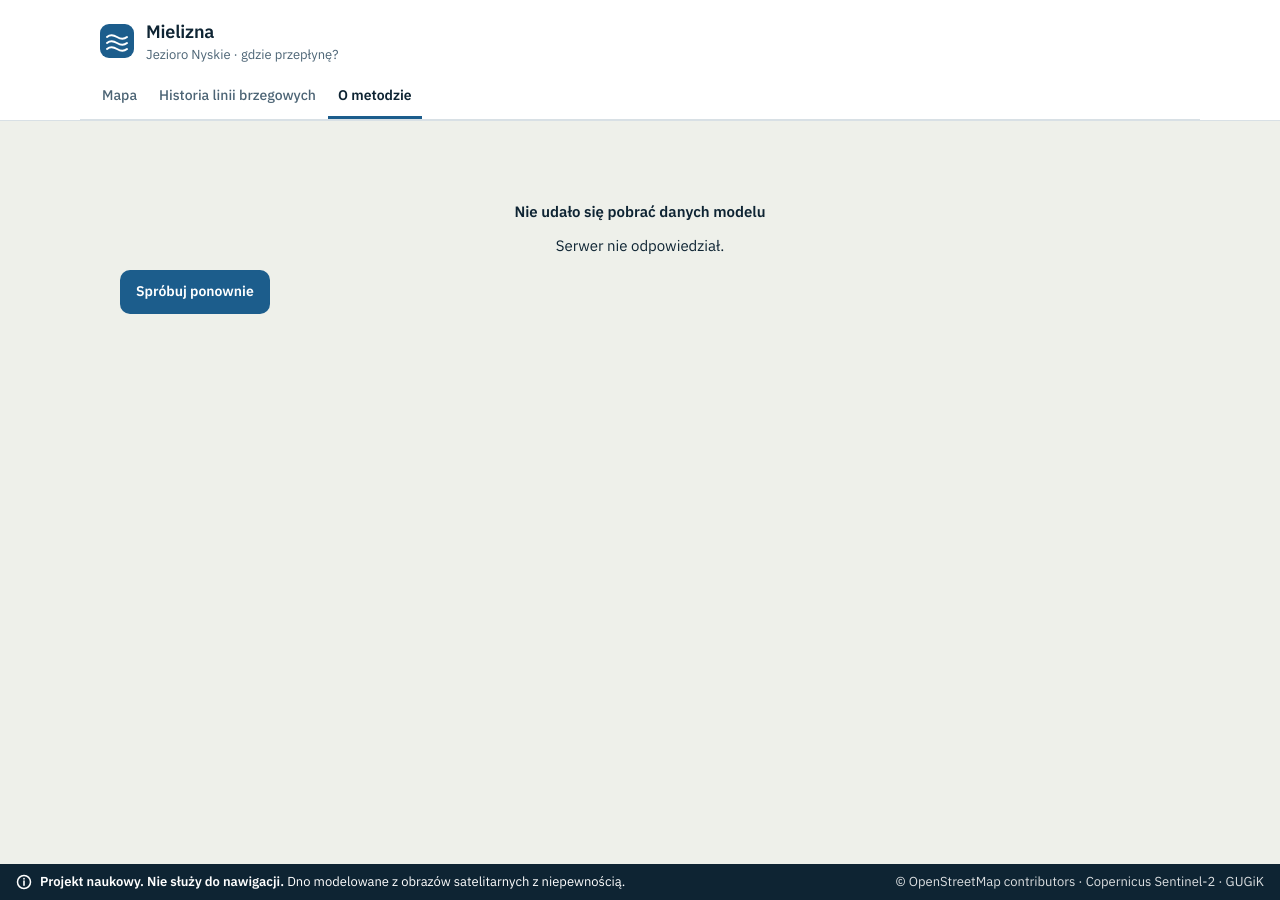
Test: MethodPage › error offers retry
The width and height of the screenshot is (1280, 900).
What coordinates should you click on to do the following:
click the button "Spróbuj ponownie"
I would click on:
 (195, 292)
Its box is [120, 270, 270, 314].
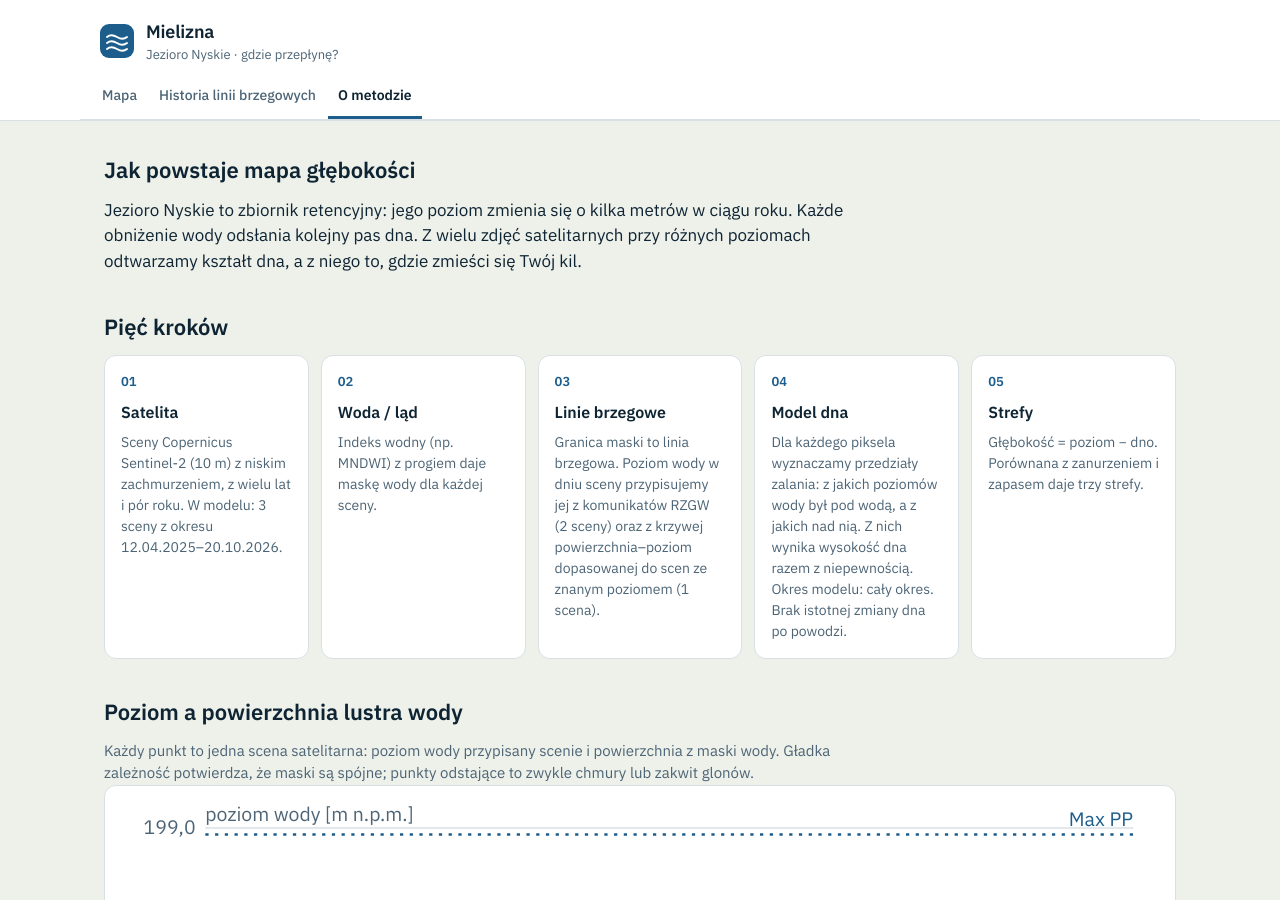
Expected: the heading "Jak powstaje mapa głębokości" is shown, [104, 154, 416, 184]
